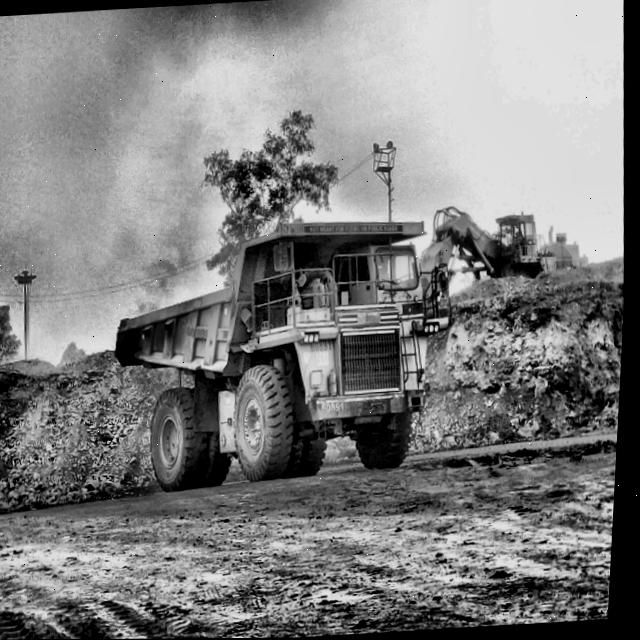dump_truck: (115, 217, 458, 496)
excavator: (424, 199, 590, 283)
